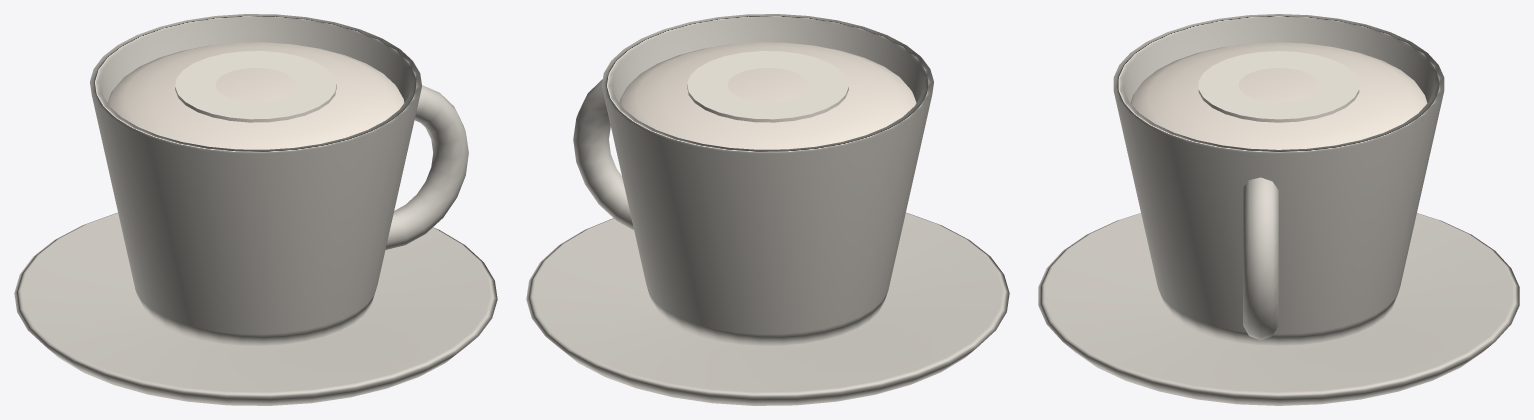
The model's file is flat-white.glb.
3 renders of one model, left to right at view 1: azimuth 30°, elevation 25°; view 2: azimuth 150°, elevation 25°; view 3: azimuth 270°, elevation 25°, orthographic.
Visible parts, largest first — view 1: flat-white; view 2: flat-white; view 3: flat-white.
Boxes of the visible parts, x1,y1,x2,y2 form: flat-white: (14, 14, 497, 405); flat-white: (526, 14, 1009, 405); flat-white: (1038, 14, 1519, 405).
Bounding box in the file's own units: 0.128 × 0.0665 × 0.1275.
